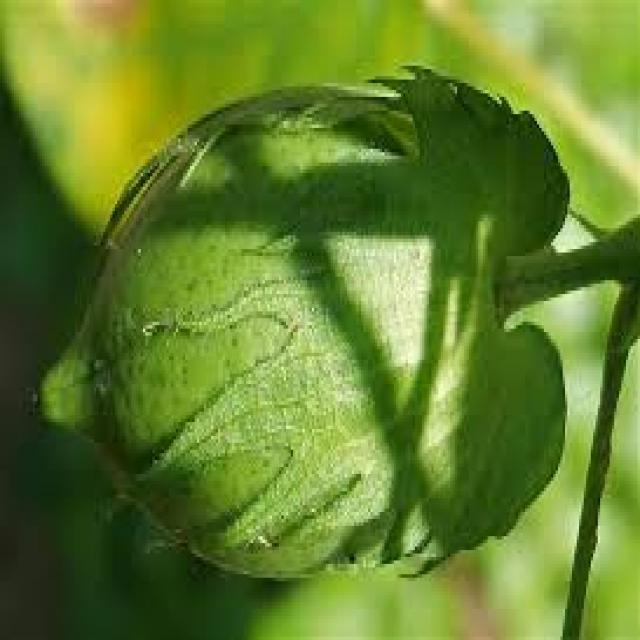Early Boll: (30, 72, 574, 580)
